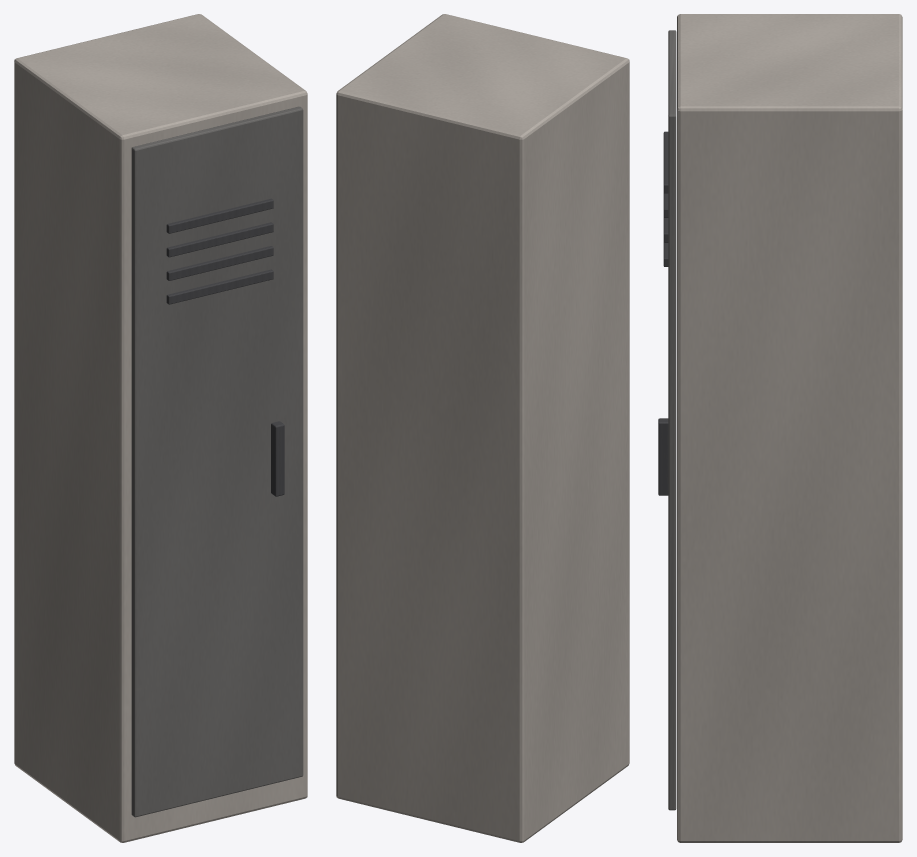
Rendered from instrument_locker.glb.
3 renders of one model, left to right at view 1: azimuth 30°, elevation 25°; view 2: azimuth 150°, elevation 25°; view 3: azimuth 270°, elevation 25°, orthographic. The views are drawn at different scales.
Parts seen in each view (by area): view 1: body, door.003, vent.003, vent, vent.001, vent.002, handle.001; view 2: body; view 3: body, door.003, handle.001.
Part boxes in pixels (bbox=[...]): body: bbox=[14, 14, 307, 842]; door.003: bbox=[131, 106, 303, 817]; vent.003: bbox=[166, 269, 273, 304]; vent: bbox=[166, 198, 273, 233]; vent.001: bbox=[166, 222, 273, 257]; vent.002: bbox=[166, 246, 273, 280]; handle.001: bbox=[271, 421, 284, 496]; body: bbox=[336, 14, 629, 842]; body: bbox=[677, 14, 902, 842]; door.003: bbox=[668, 30, 676, 810]; handle.001: bbox=[658, 418, 668, 495].
Bounding box in the file's own units: 0.5 × 1.8 × 0.541.
3 materials, 3 textured.
